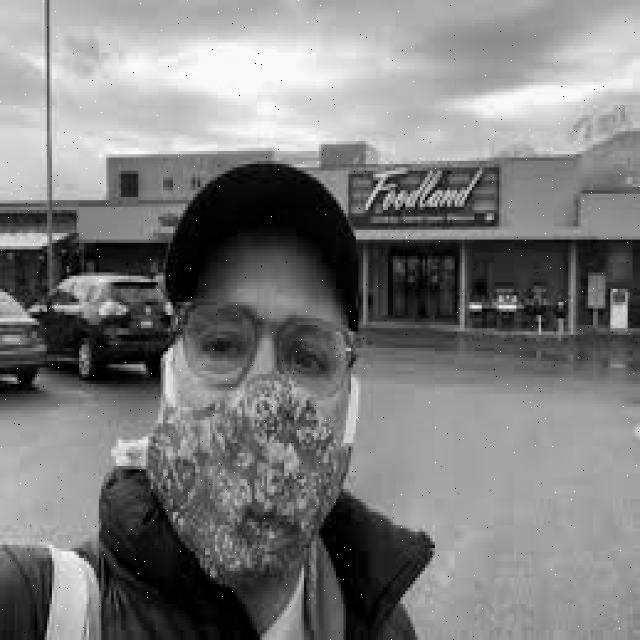fake: (142, 381, 359, 595)
real: (172, 242, 351, 601)
